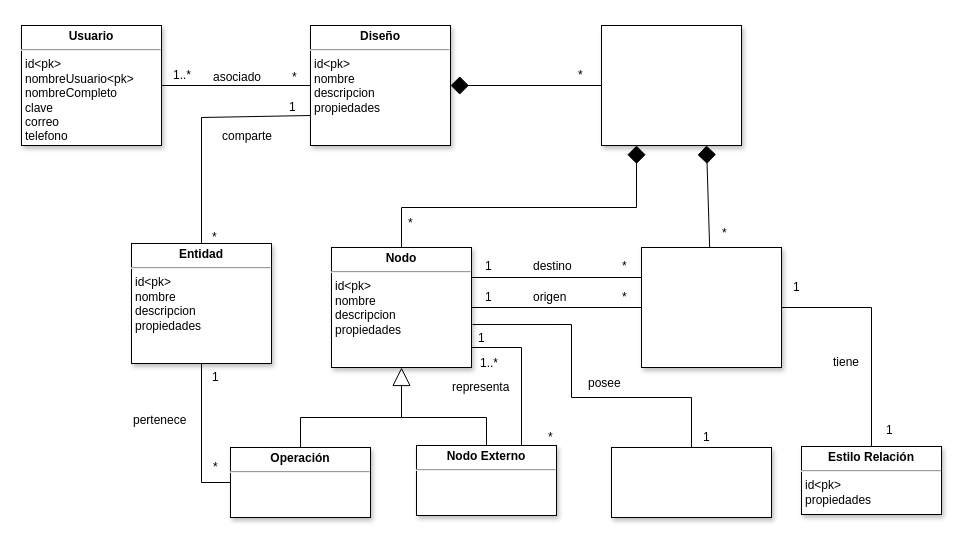
This 965x542 diagram has some shape labels left out. The centre of each missing label's shape, as x and y in pixels:
"Diagrama id<pk> nombre descripcion propiedades" goes at (x=672, y=86).
"Estilo Nodo id<pk> propiedades" goes at (x=692, y=483).
"Relación id<pk> nombre tipo propiedades" goes at (x=712, y=308).
